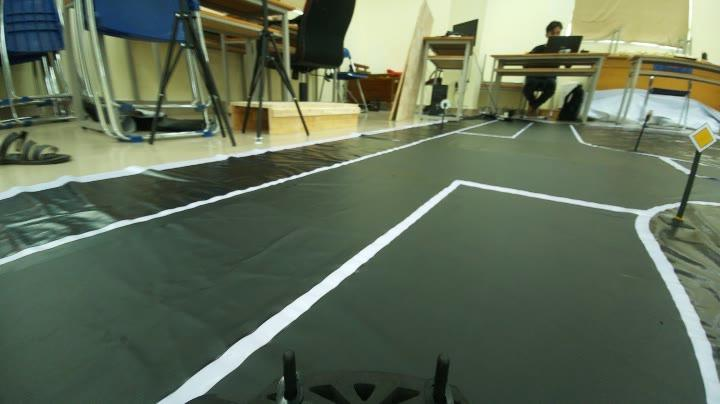priority: (687, 121, 718, 154)
